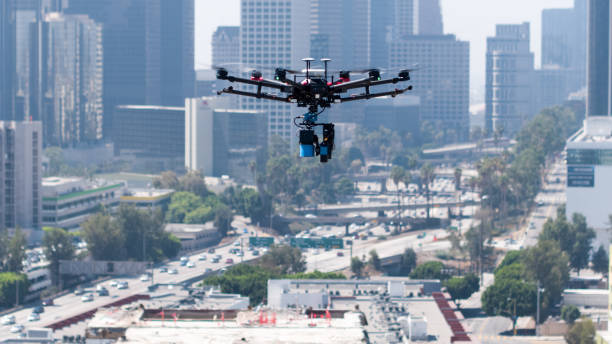Drone: (212, 55, 427, 162)
